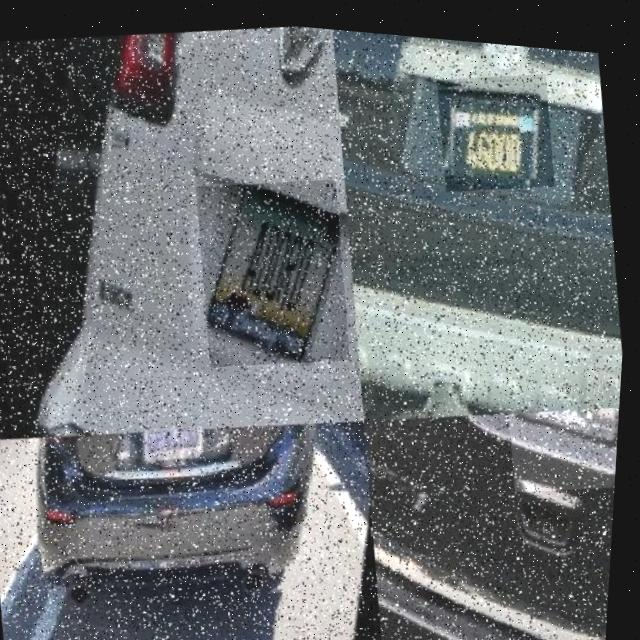LicensePlate: (189, 163, 363, 373), (432, 56, 562, 191), (509, 386, 624, 489), (150, 422, 208, 459)
